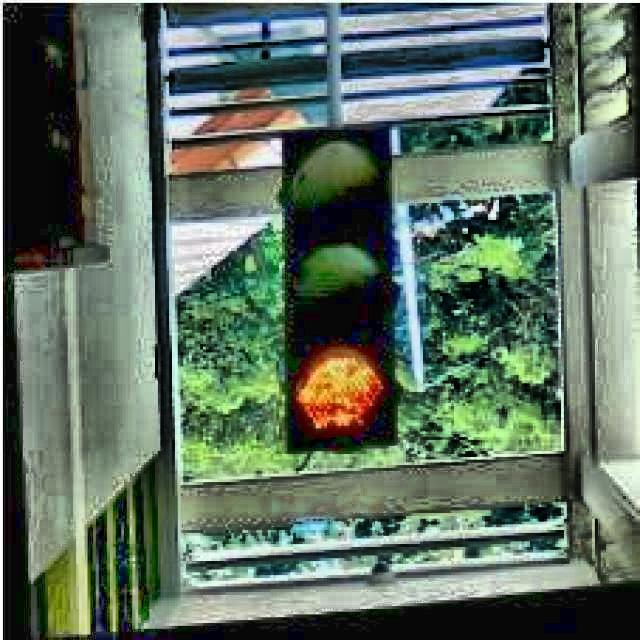red: (283, 126, 401, 450)
